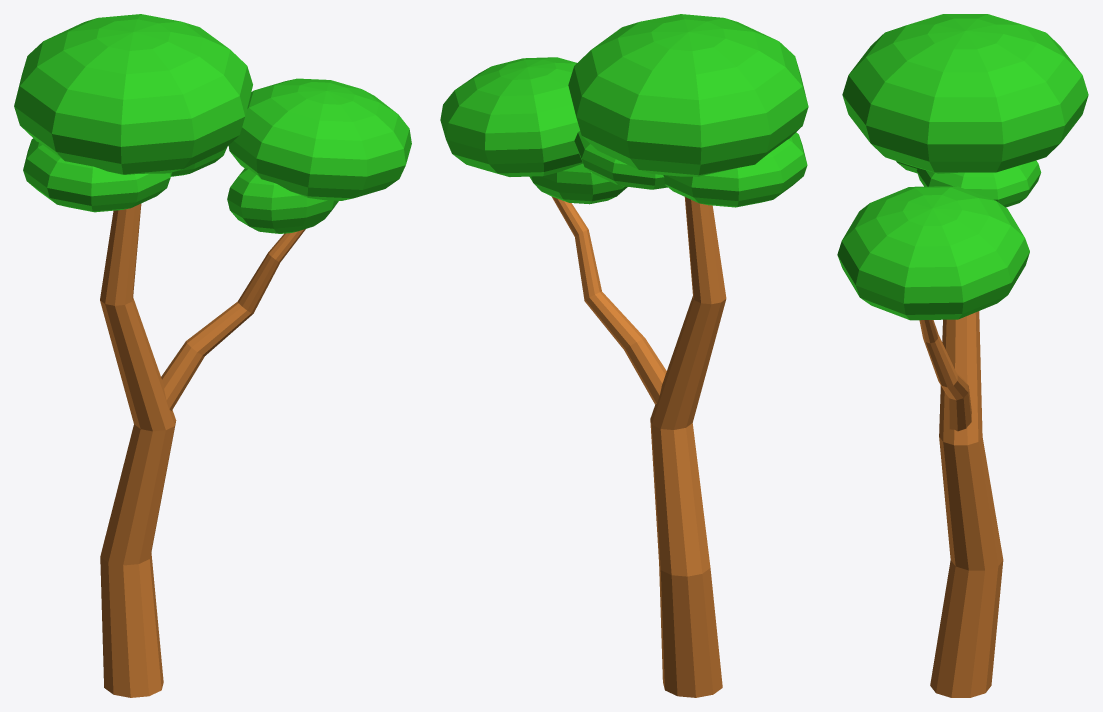
File: Tree3.fbx
3 views of the same model, side by side, from view 1: azimuth 30°, elevation 25°; view 2: azimuth 150°, elevation 25°; view 3: azimuth 270°, elevation 25° (orthographic).
Visible parts, largest first — view 1: Tree 3; view 2: Tree 3; view 3: Tree 3.
Part boxes in pixels (box(x1,y1,x2,y2)): Tree 3: box(14, 14, 411, 697); Tree 3: box(440, 14, 808, 697); Tree 3: box(837, 14, 1088, 697).
Size of the model in its own units: 331 by 588 by 204.
